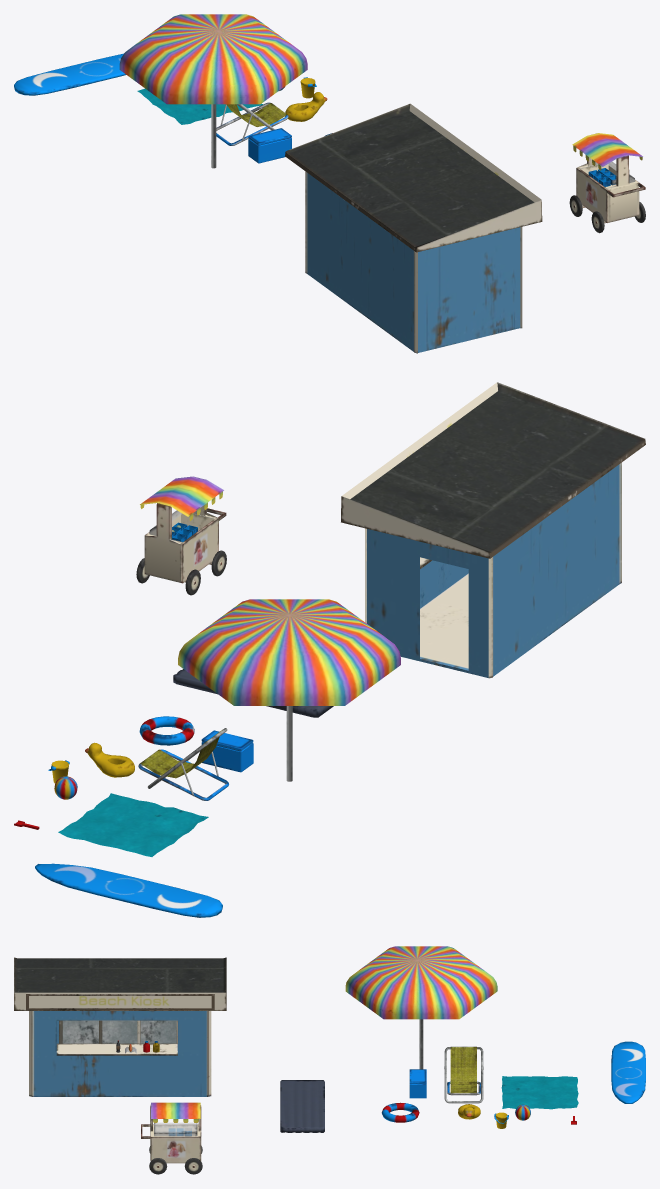
File: beach_props.glb
3 renders of one model, top to bottom at view 1: azimuth 30°, elevation 25°; view 2: azimuth 150°, elevation 25°; view 3: azimuth 270°, elevation 25°, orthographic. The views are drawn at different scales.
Visible parts, largest first — view 1: Cylinder.002__0; view 2: Cylinder.002__0; view 3: Cylinder.002__0.
Boxes of the visible parts, x1,y1,x2,y2 form: Cylinder.002__0: (14,14,645,353); Cylinder.002__0: (14,382,645,917); Cylinder.002__0: (14,946,645,1174).
Size of the model in its own units: 6.66 by 2.65 by 13.43.
Materials: 1 (1 with a texture image).
